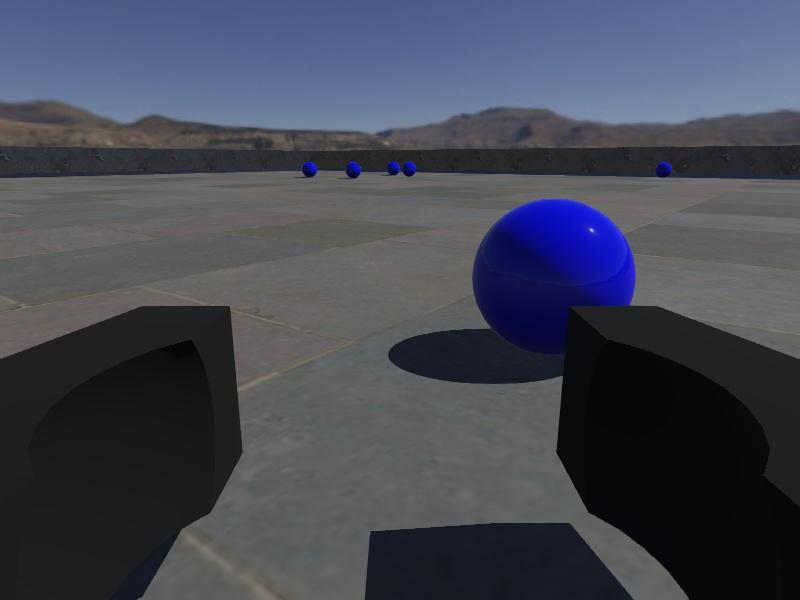blue ball: (301, 160, 319, 178), (385, 159, 402, 175), (655, 161, 672, 176), (345, 162, 362, 177), (402, 161, 416, 176)
